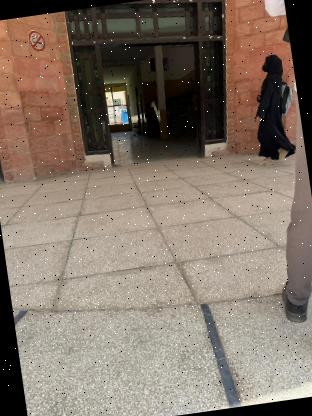door: (53, 0, 252, 179)
